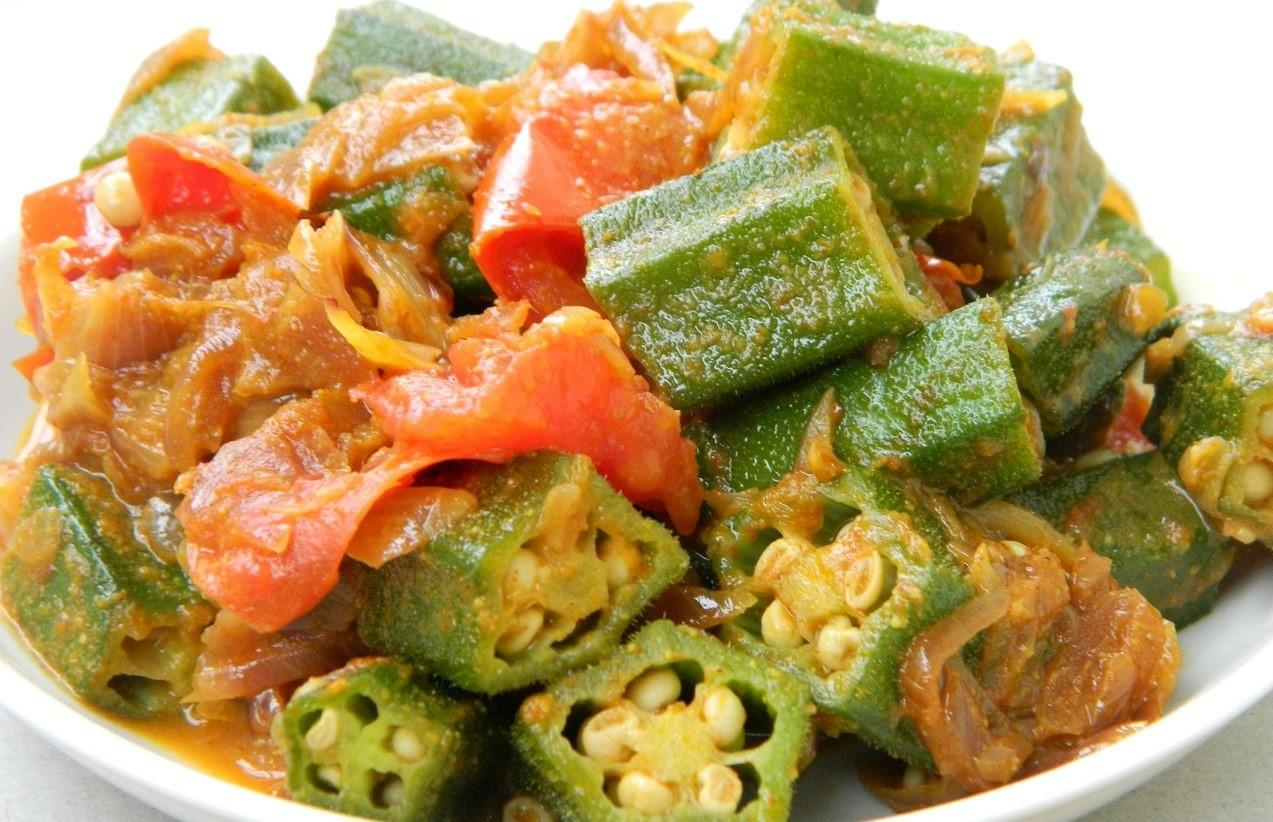BhindiMasala: (0, 2, 1273, 822)
